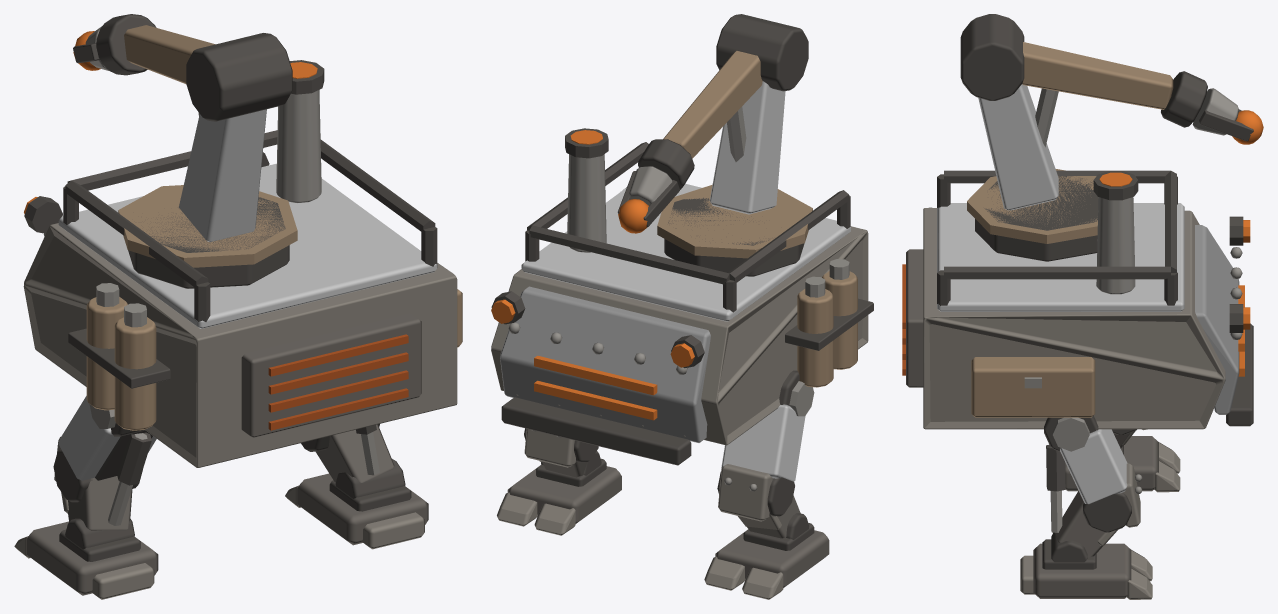
Rendered from crucible_rigger.glb.
3 views of the same model, side by side, from view 1: azimuth 30°, elevation 25°; view 2: azimuth 150°, elevation 25°; view 3: azimuth 270°, elevation 25° (orthographic). The views are drawn at different scales.
Visible parts, largest first — view 1: Body; view 2: Body; view 3: Body.
Boxes of the visible parts, bbox=[...] form: Body: bbox=[14, 14, 462, 599]; Body: bbox=[491, 14, 873, 599]; Body: bbox=[902, 14, 1263, 599].
Bounding box in the file's own units: 0.981 × 1.55 × 1.05.
